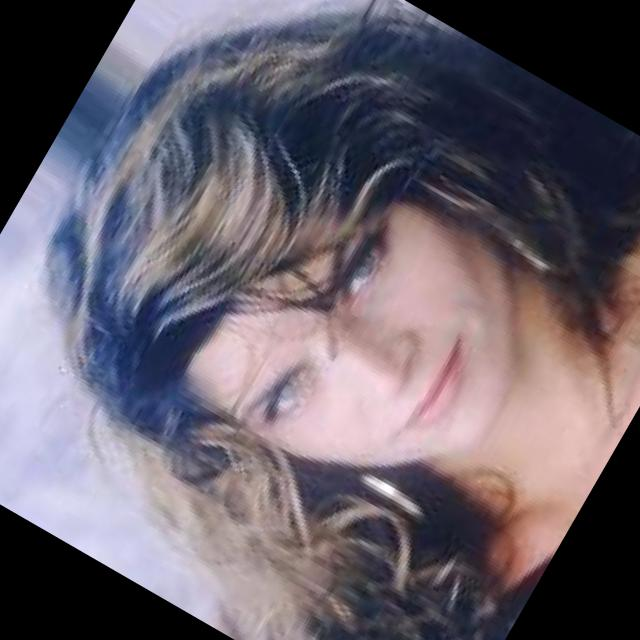bareface: (41, 0, 621, 546)
